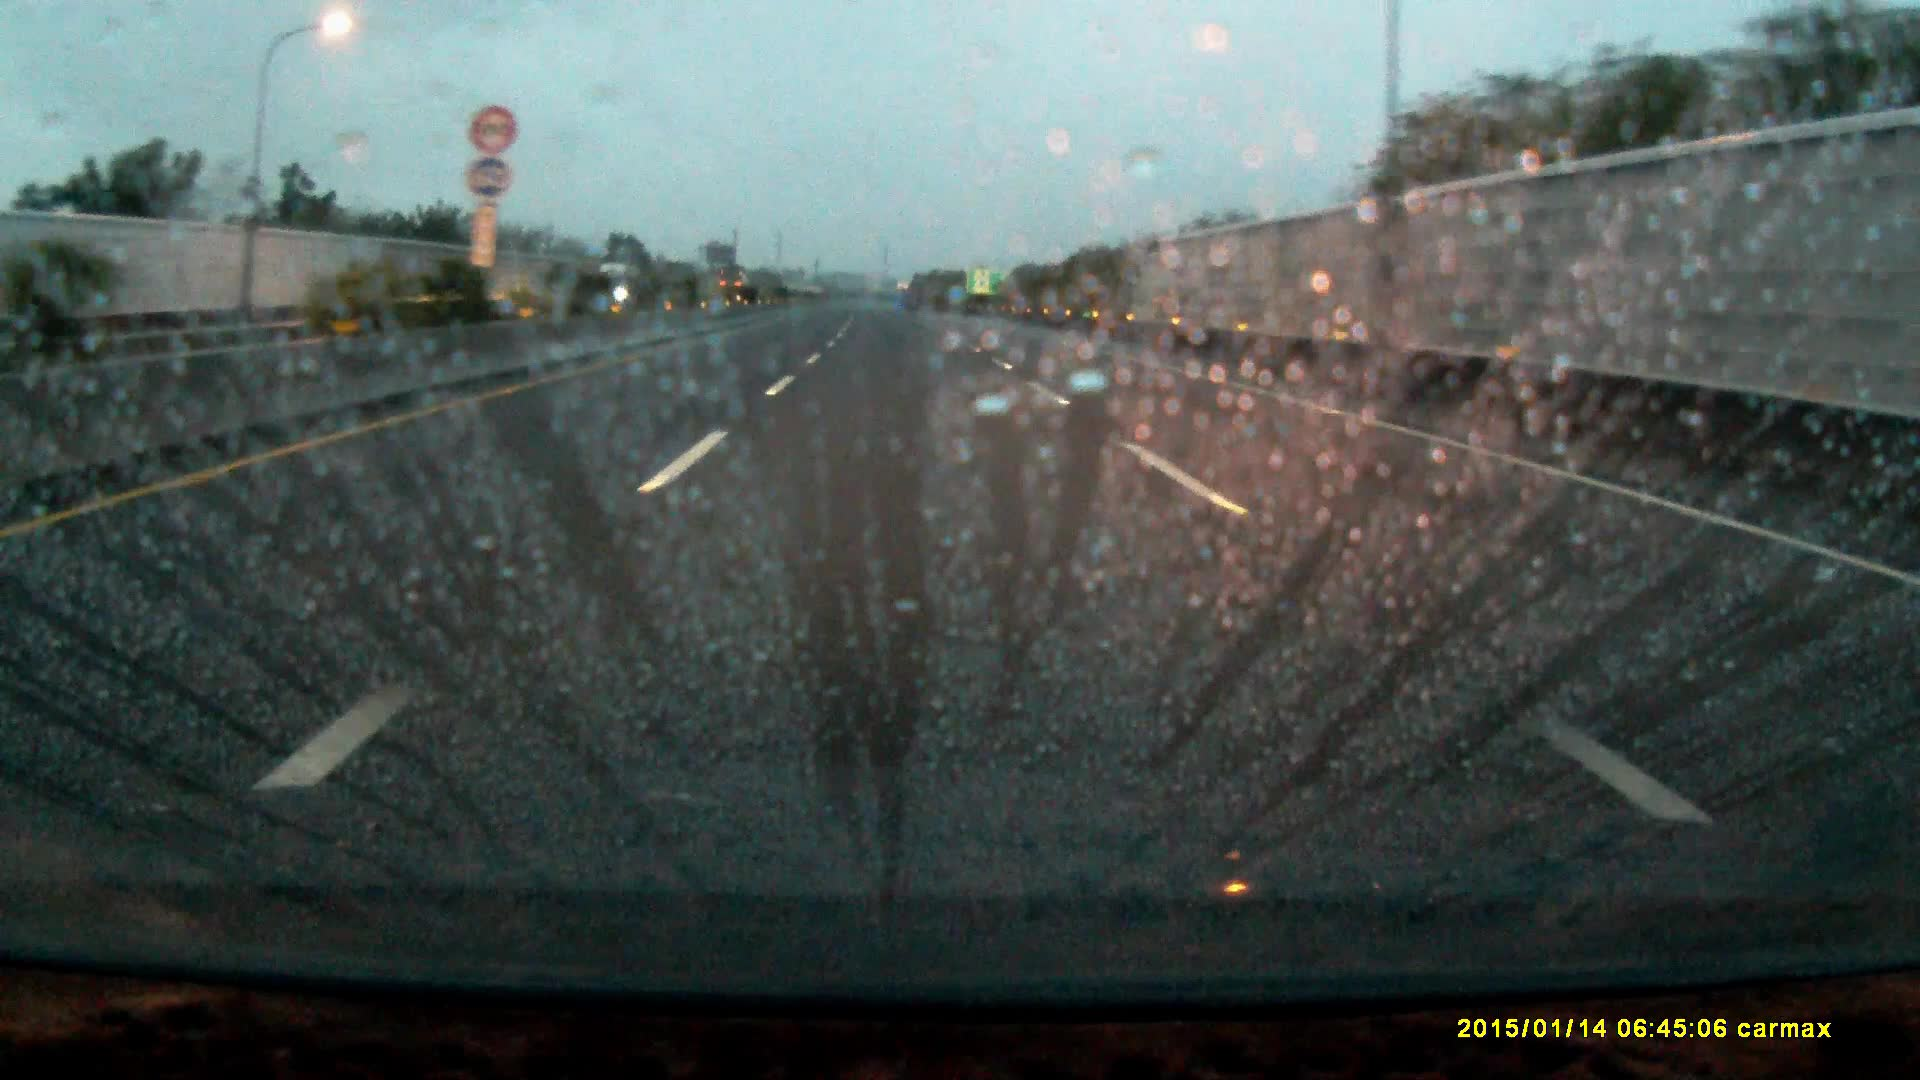vehicle: (597, 262, 642, 299), (720, 278, 754, 305)
